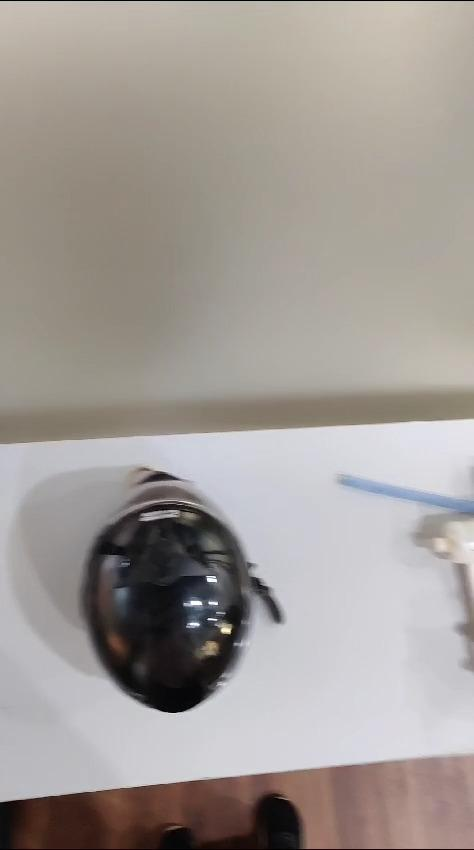Helmet: (82, 469, 281, 711)
